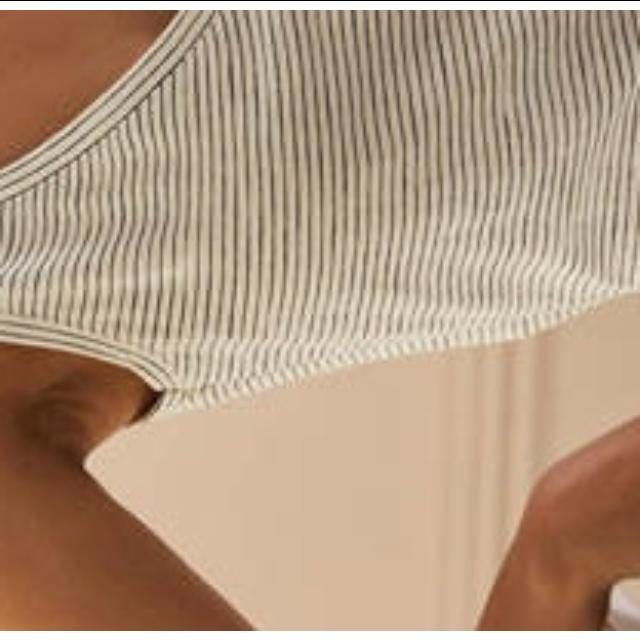cotton: (1, 10, 634, 394)
